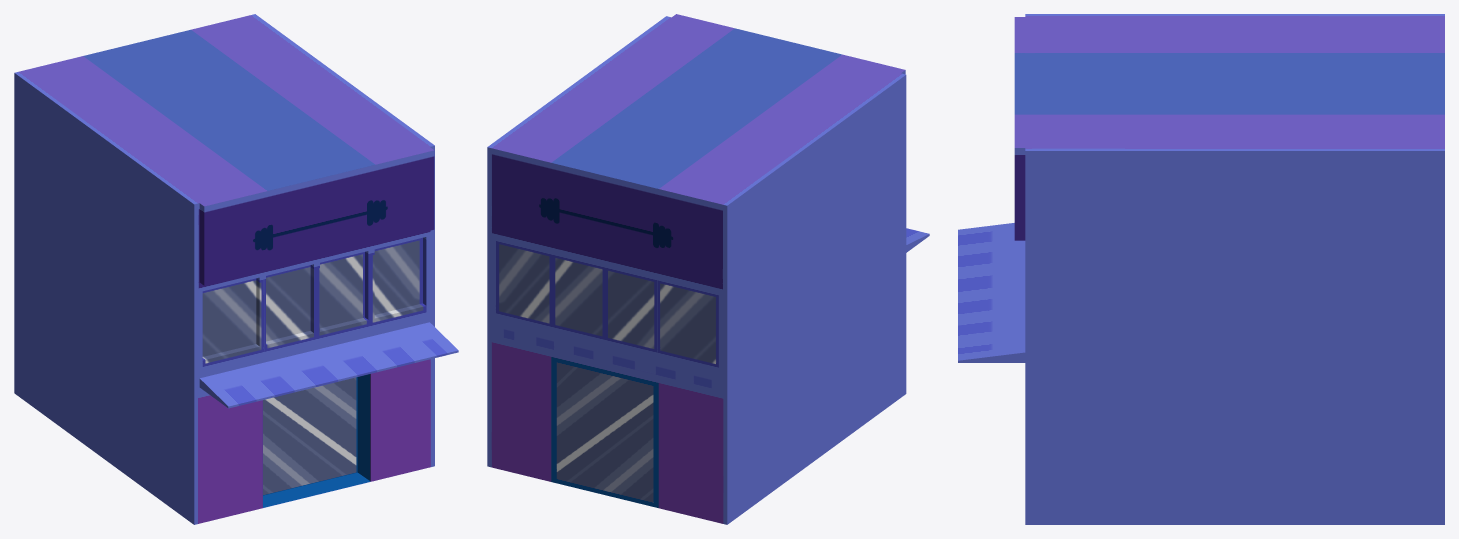
The model's file is Adam_Building_5.fbx.
The picture shows the model from 3 angles, left to right: view 1: azimuth 30°, elevation 25°; view 2: azimuth 150°, elevation 25°; view 3: azimuth 270°, elevation 25°; orthographic projection. The views are drawn at different scales.
Visible parts, largest first — view 1: Bldg_Combo_3:Adam_Building_5; view 2: Bldg_Combo_3:Adam_Building_5; view 3: Bldg_Combo_3:Adam_Building_5.
Part boxes in pixels (left/top/right/bottom): Bldg_Combo_3:Adam_Building_5: left=14, top=14, right=458, bottom=524; Bldg_Combo_3:Adam_Building_5: left=487, top=14, right=929, bottom=524; Bldg_Combo_3:Adam_Building_5: left=958, top=14, right=1444, bottom=524.
Size of the model in its own units: 4.13 by 5.25 by 6.2.
Materials: 1 (1 with a texture image).
